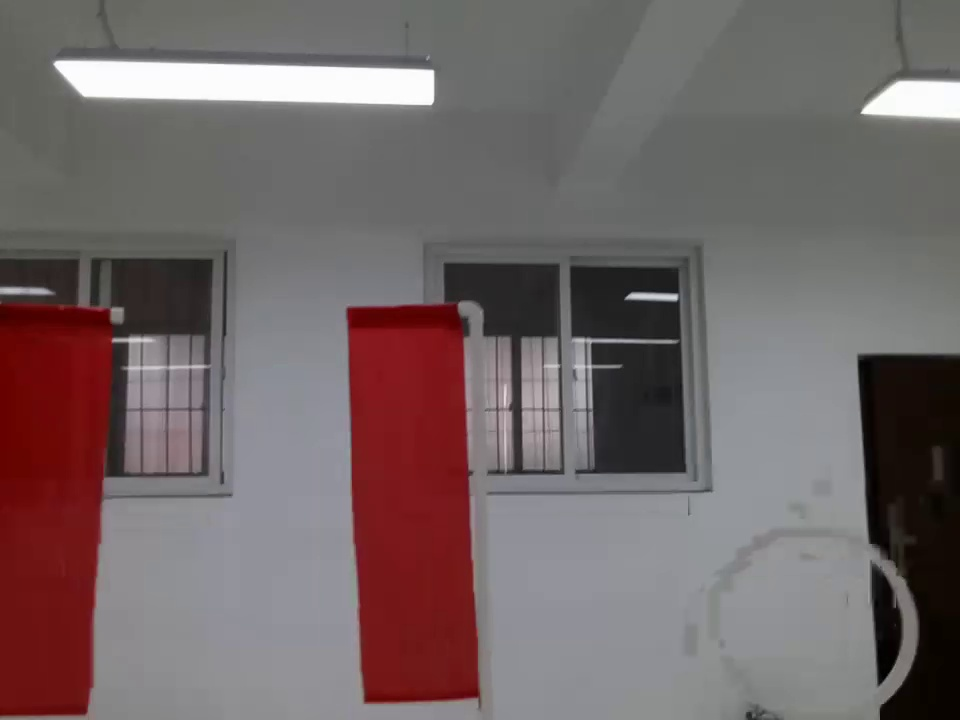qi: (335, 297, 507, 718), (3, 279, 134, 720)
quan: (693, 516, 919, 718)
